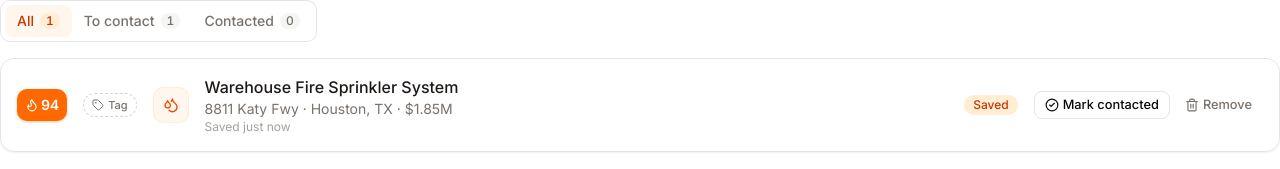
Test: SavedList › toggles status to Contacted optimistically before the API resolves
Click the button "Mark contacted" at (1102, 105), box [1034,91,1170,119]
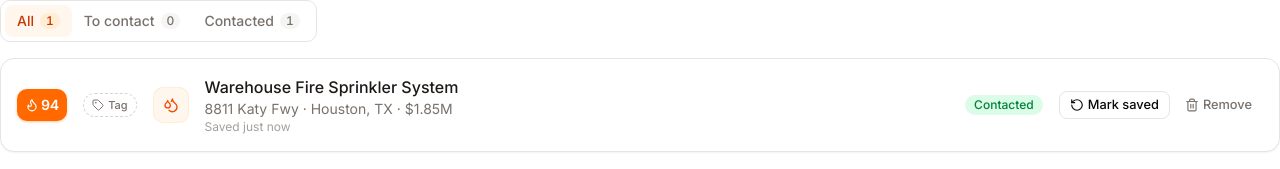
Expected: the button "Mark saved" is shown, [1059,91,1170,119]
